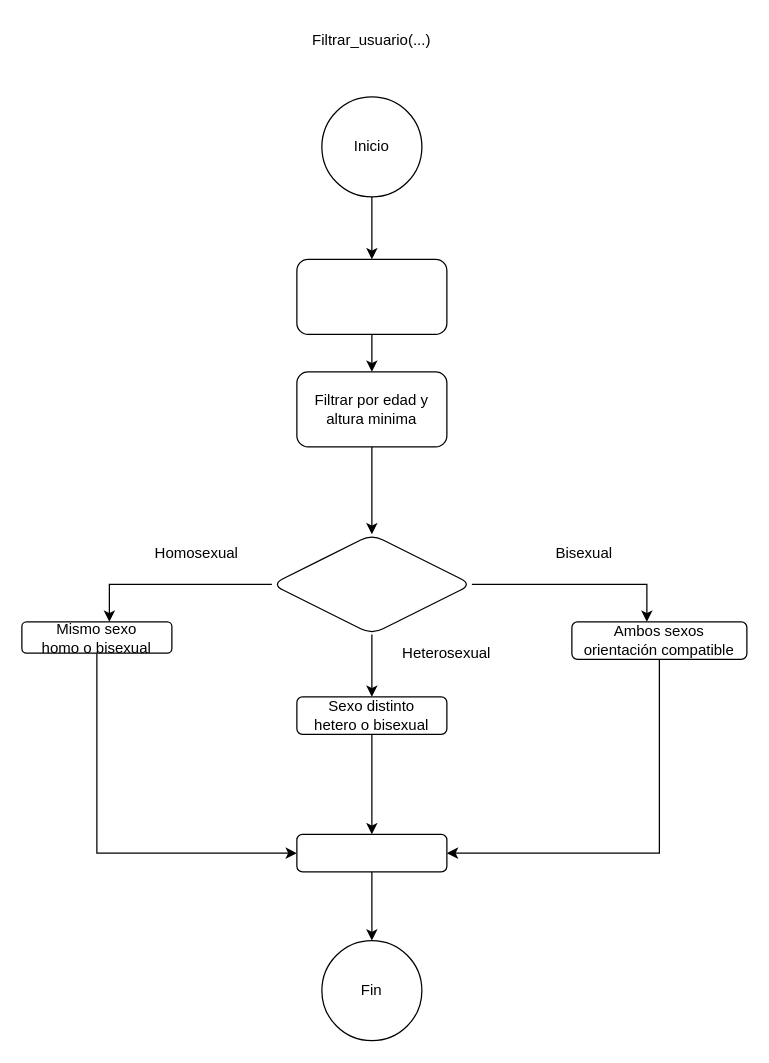
Some shapes in this 769 by 1063 pixel diagram are drawn without their labels. Each missing label, with the centre of its shape:
"Excluir id del usuario del dataframe" goes at point (371, 296).
"Return candidatos" goes at point (371, 852).
"¿Sexualidad del usuario?" goes at point (371, 583).
